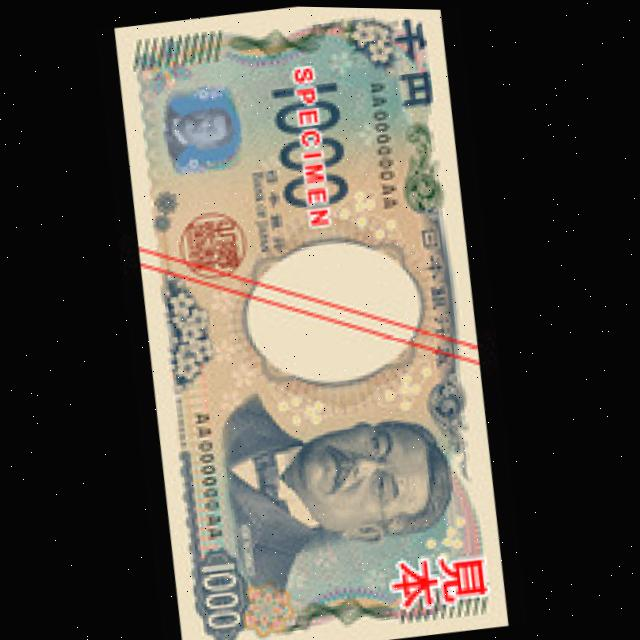banknote: (100, 2, 528, 640)
